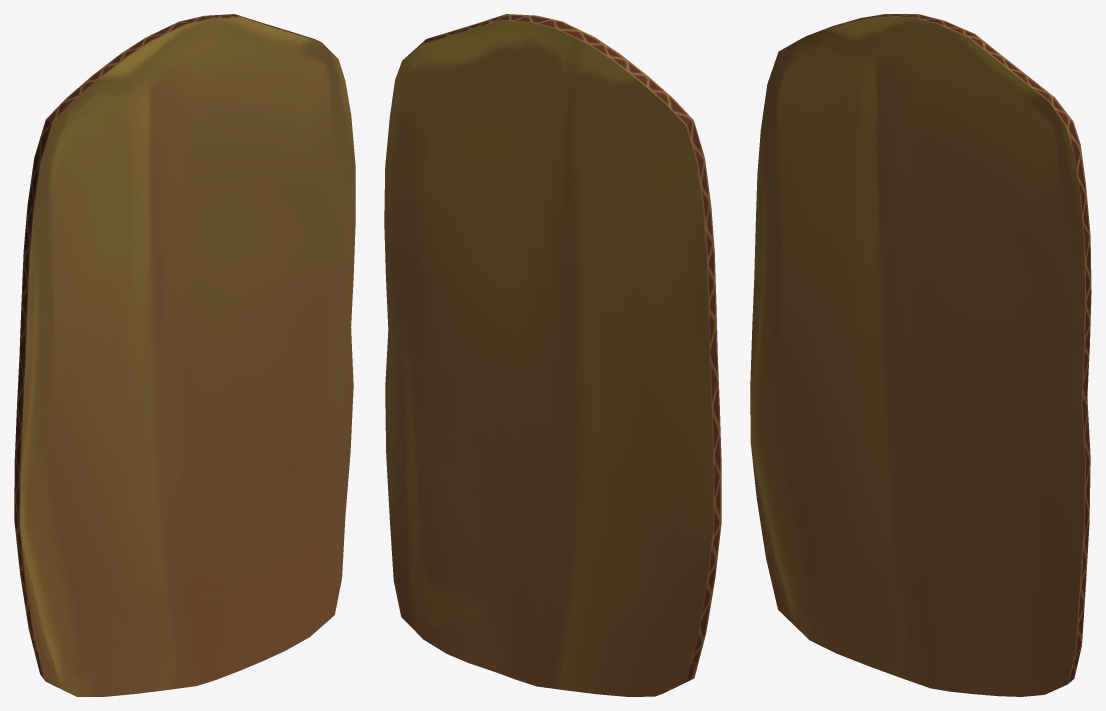
Rendered from cartón_1.fbx.
3 renders of one model, left to right at view 1: azimuth 30°, elevation 25°; view 2: azimuth 150°, elevation 25°; view 3: azimuth 330°, elevation 25°, orthographic.
Visible parts, largest first — view 1: Carton_1; view 2: Carton_1; view 3: Carton_1.
Part boxes in pixels (x1,y1,x2,y2): Carton_1: (14, 14, 355, 696); Carton_1: (384, 14, 721, 696); Carton_1: (750, 14, 1091, 696).
Bounding box in the file's own units: 95.74 × 183 × 6.21.
Materials: 1 (1 with a texture image).
